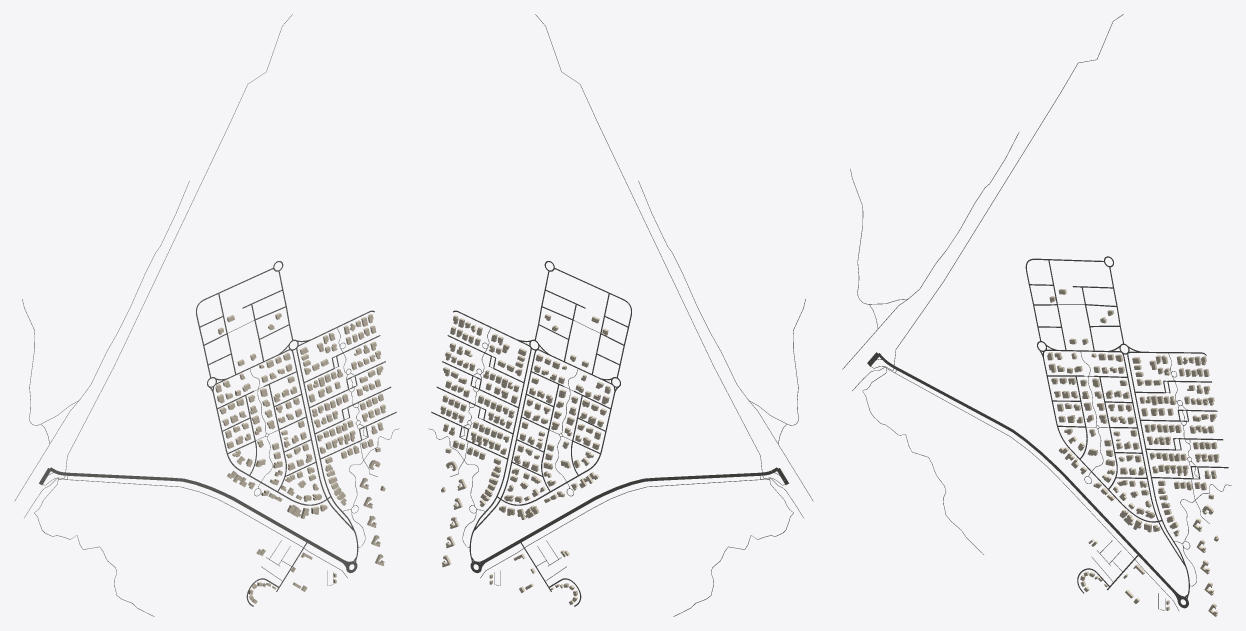
The model's file is historic-palestine-06_14_3477_3085.glb.
3 views of the same model, side by side, from view 1: azimuth 30°, elevation 25°; view 2: azimuth 150°, elevation 25°; view 3: azimuth 330°, elevation 25° (orthographic).
Visible parts, largest first — view 1: Road 2039.003, Road .004; view 2: Road 2039.003, Road .004; view 3: Road 2039.003.
Part boxes in pixels (left/top/right/bottom): Road 2039.003: left=56, top=470, right=343, bottom=562; Road .004: left=64, top=14, right=292, bottom=477; Road 2039.003: left=484, top=470, right=771, bottom=562; Road .004: left=535, top=14, right=763, bottom=477; Road 2039.003: left=884, top=359, right=1175, bottom=592.
Bounding box in the file's own units: 1057 × 1530 × 8.7.
